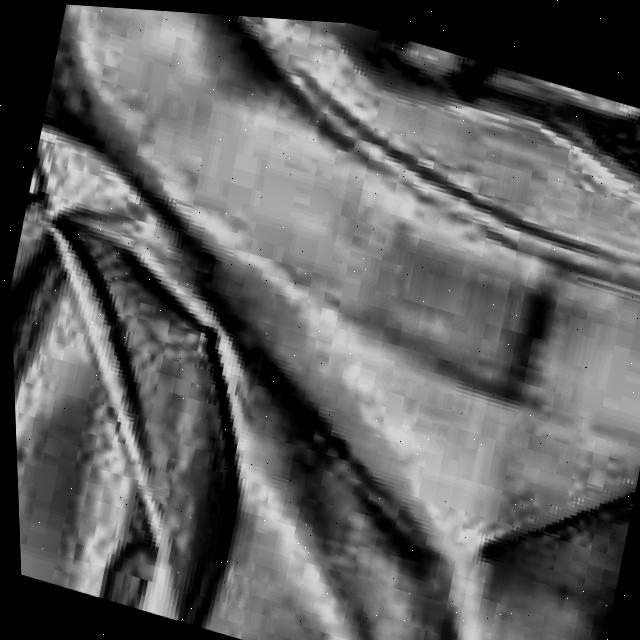metal: (8, 3, 640, 640)
